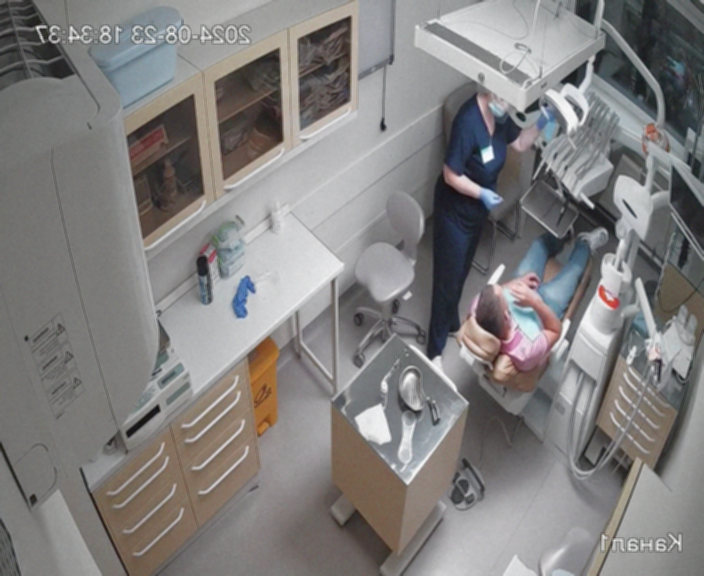Patient: (456, 226, 612, 418)
